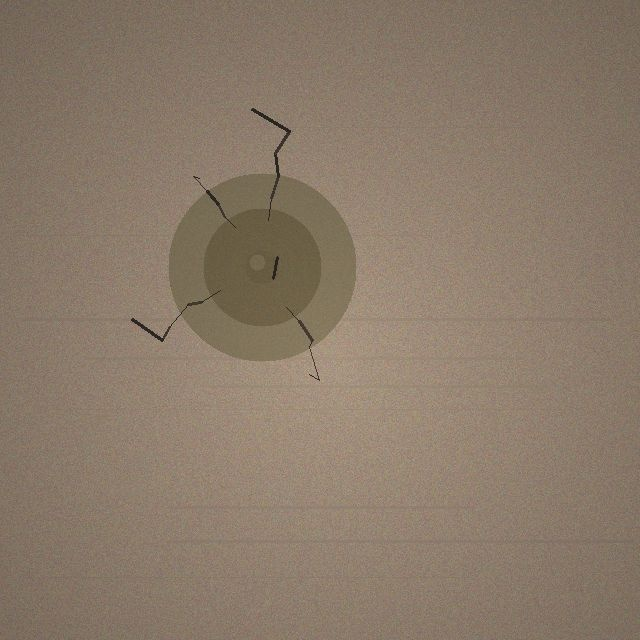crack: (168, 173, 356, 361)
